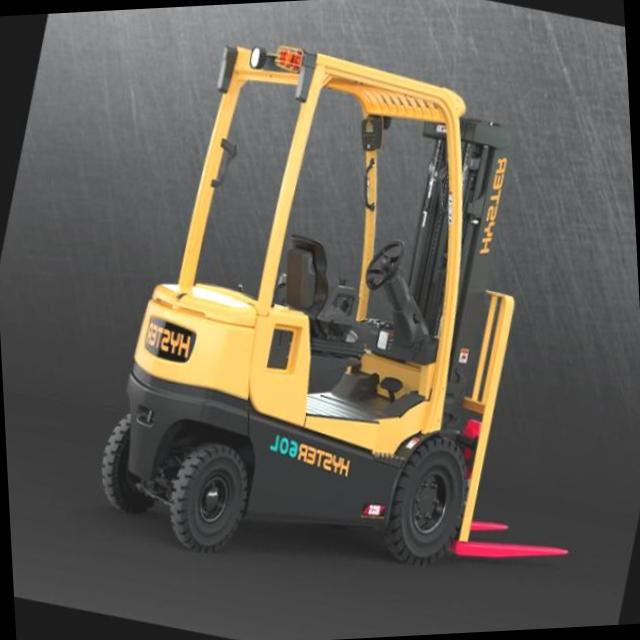forklift: (52, 0, 622, 637)
